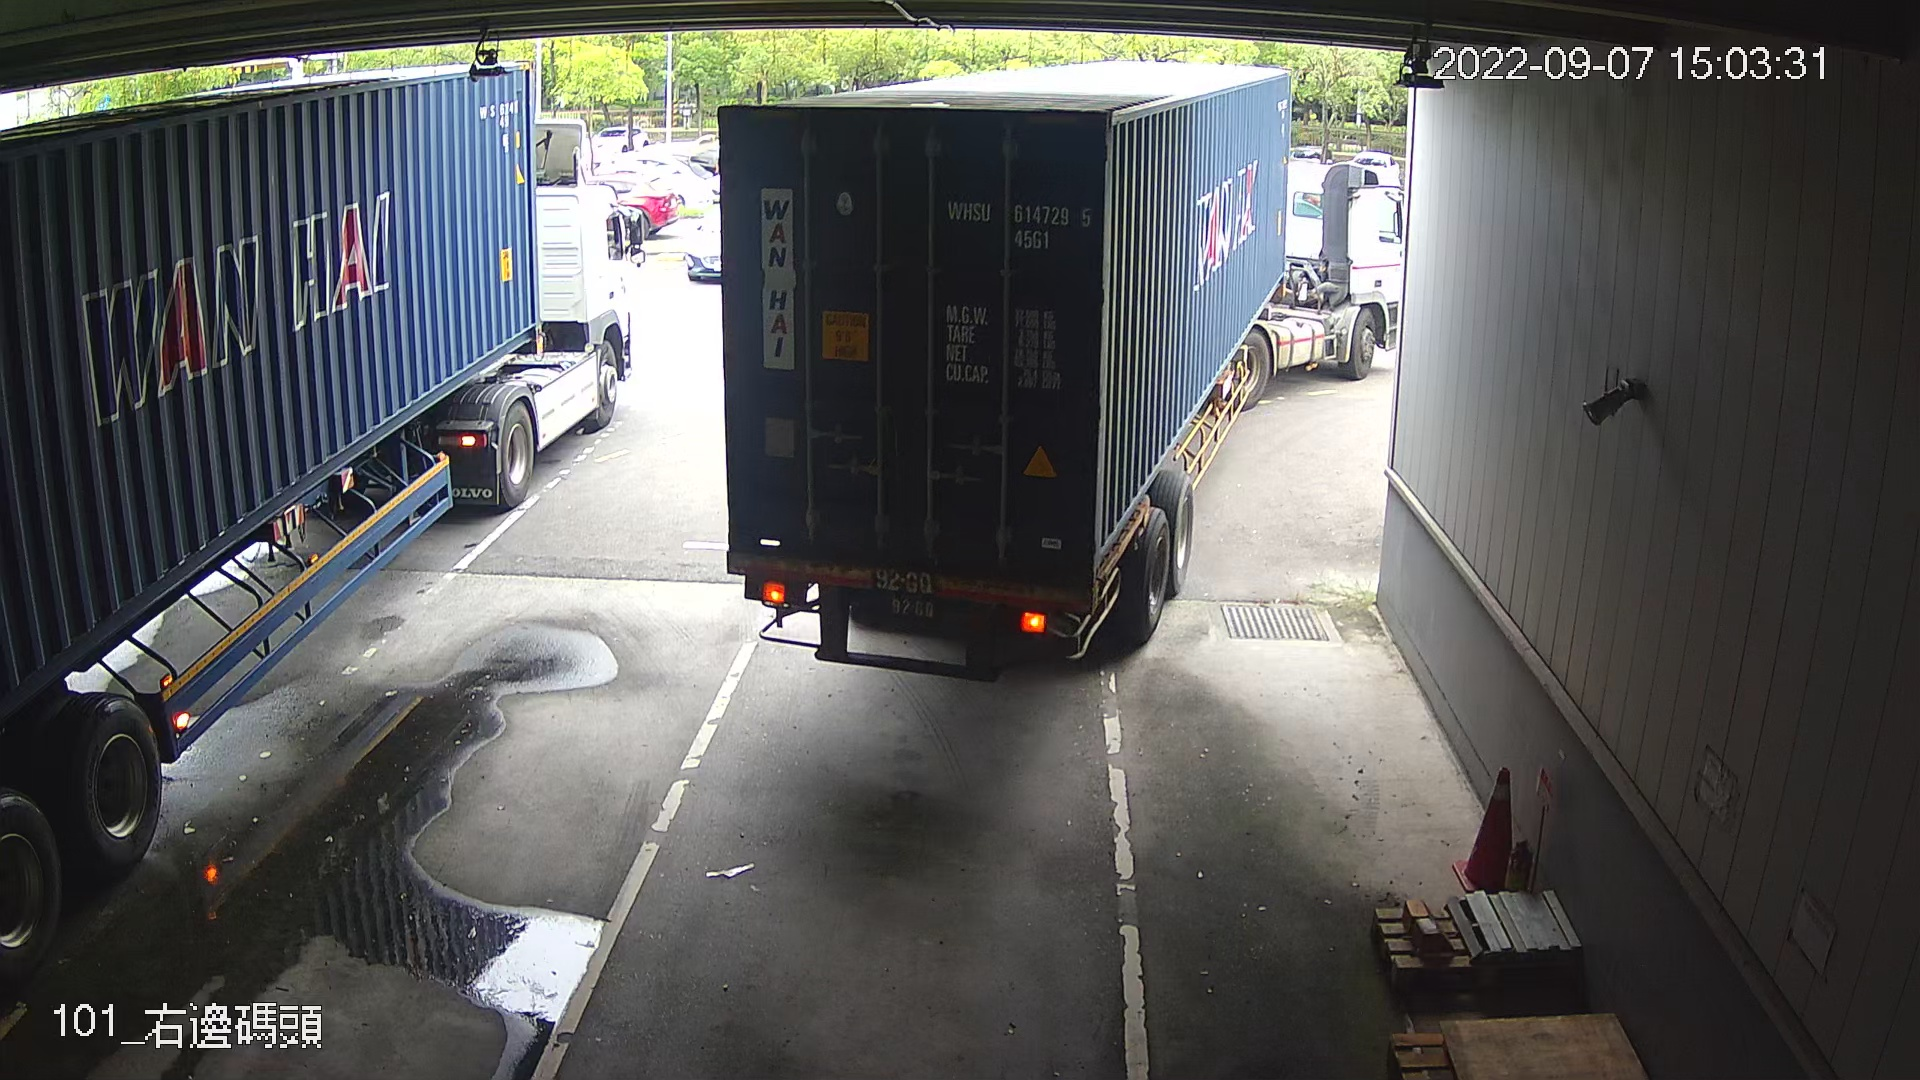container: (939, 185, 1098, 264)
